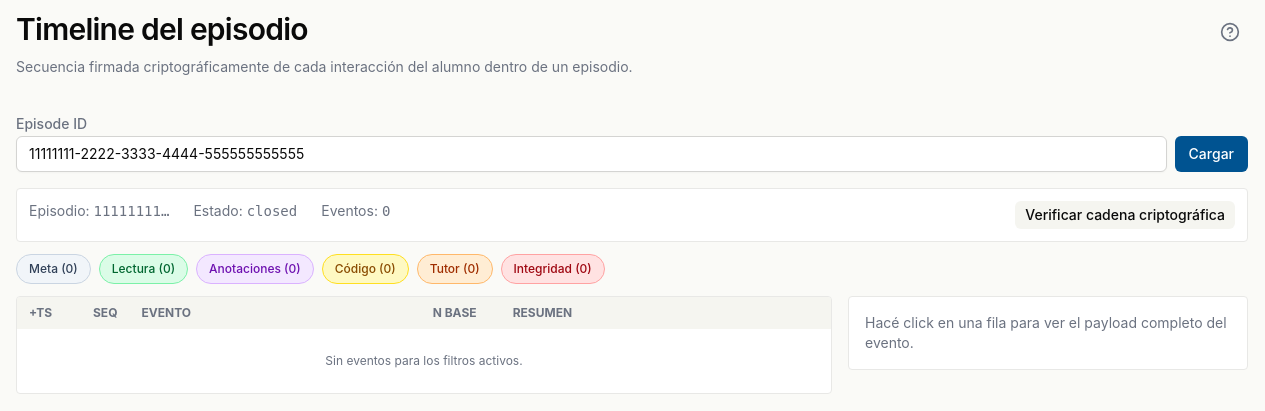
Test case: EpisodeTimelineView — verificar cadena › error de API (403): muestra el error, no un falso 'integra'
The width and height of the screenshot is (1265, 411).
Step 1. Click the button with test id "timeline-verify" → click(1125, 214), box [1015,200,1235,228]
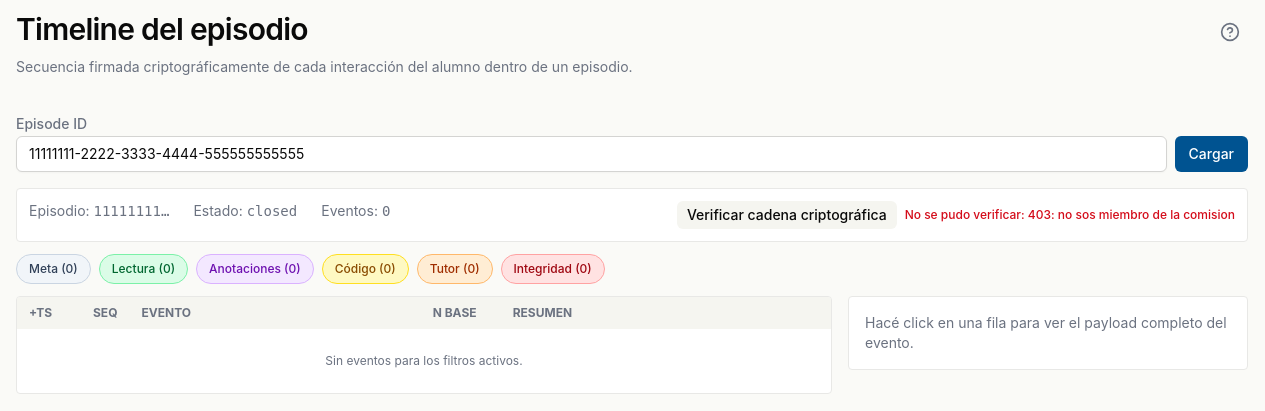
Expected: the message with test id "timeline-verify-result" does not show "íntegra", [905,206,1235,222]
Expected: the message with test id "timeline-verify-result" shows "no sos miembro", [1028,206,1235,222]
